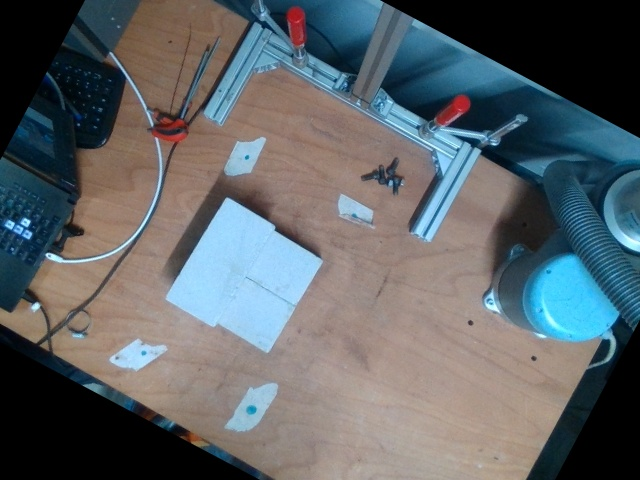brick: (164, 196, 275, 328)
